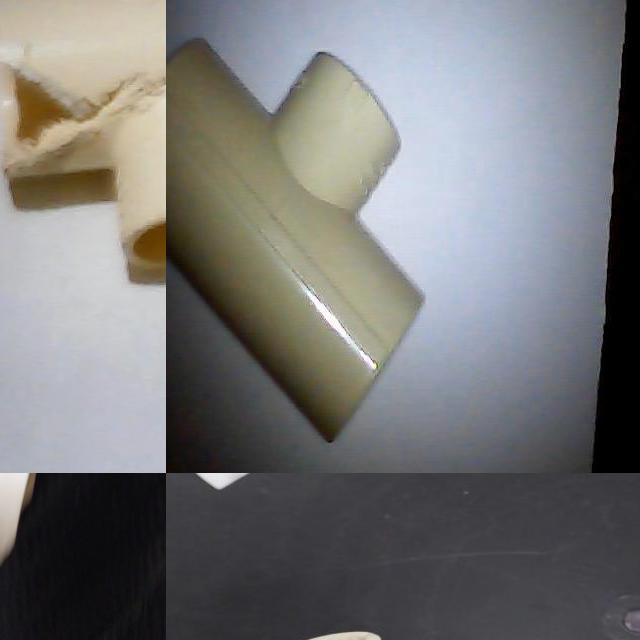Defective: (0, 38, 121, 168), (17, 473, 112, 593)
L Joint: (0, 485, 166, 640)
T Joint: (166, 39, 425, 445)
